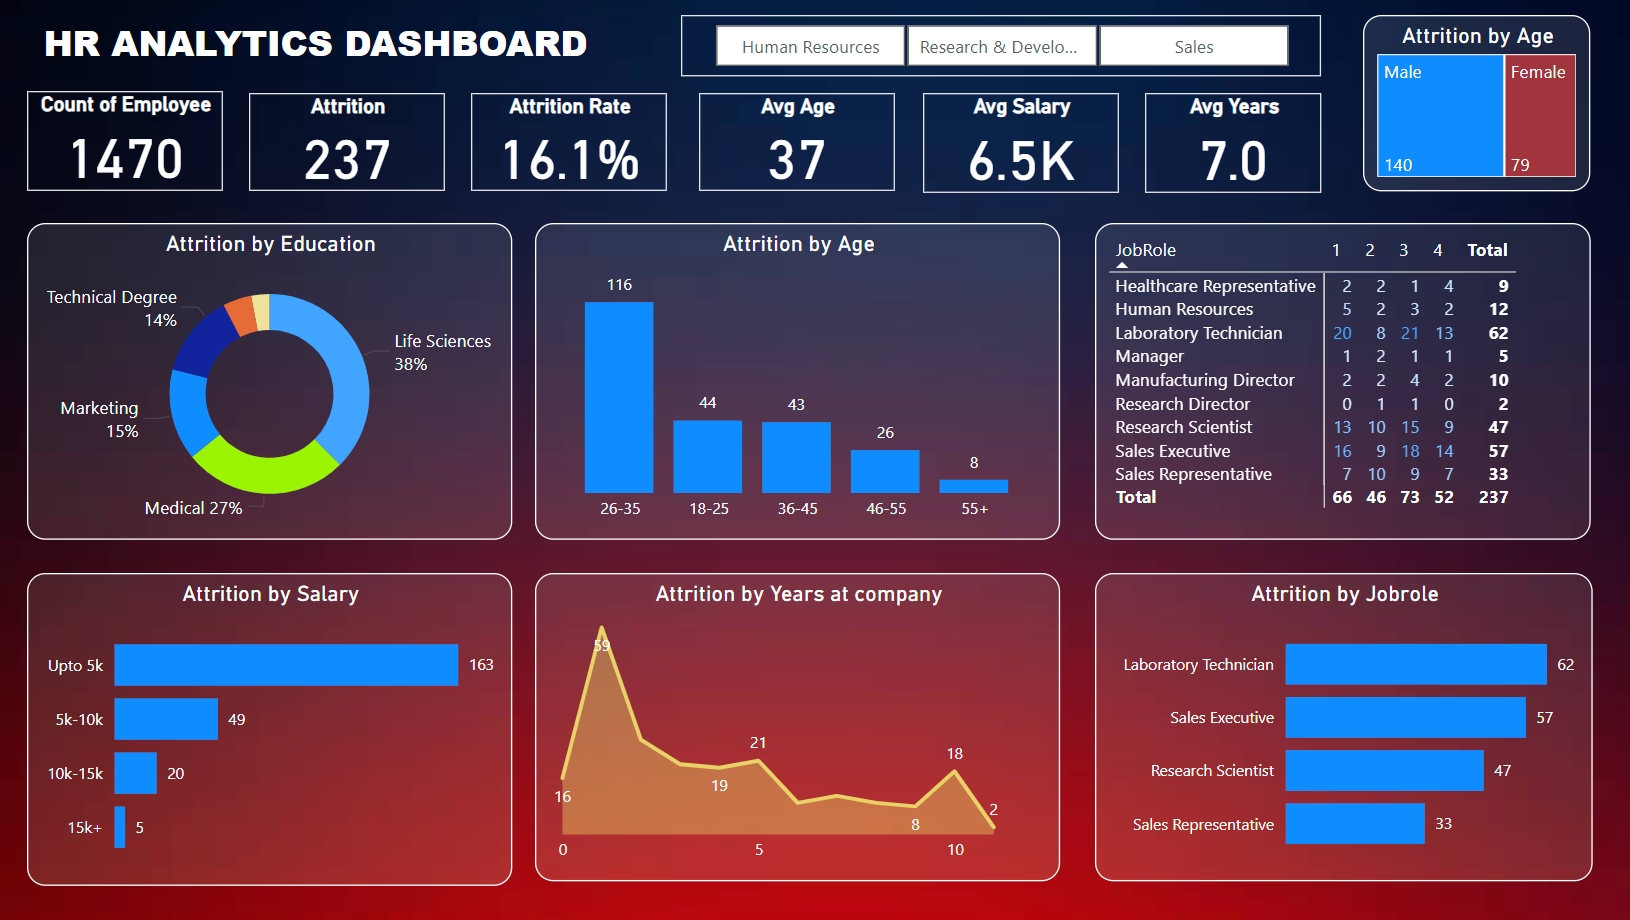

This screenshot's page, from the dashboard's own definition file:
{"tool":"powerbi","page":{"name":"Page 1","canvas":[1280,720],"ordinal":0},"visuals":[{"type":"card","title":"Count of Employee","fields":{"Values":["CountNonNull(HR_Analytics.EmpID)"]},"box":[22.8,71.7,149.8,76.5],"z":0},{"type":"card","title":"Attrition","fields":{"Values":["Sum(HR_Analytics.AttritionCount)"]},"box":[192.2,73.3,149.8,74.9],"z":1000},{"type":"card","title":"Attrition Rate","fields":{"Values":["HR_Analytics.AttritionRate"]},"box":[363.2,73.3,149.8,74.9],"z":2000},{"type":"card","title":"Avg Age","fields":{"Values":["Avg(HR_Analytics.Age)"]},"box":[537.4,73.3,149.8,74.9],"z":3000},{"type":"card","title":"Avg Salary","fields":{"Values":["Avg(HR_Analytics.MonthlyIncome)"]},"box":[708.4,73.3,149.8,76.5],"z":4000},{"type":"card","title":"Avg Years","fields":{"Values":["Avg(HR_Analytics.YearsAtCompany)"]},"box":[879.4,73.3,135.2,76.5],"z":5000},{"type":"donutChart","title":"Attrition by Education","fields":{"Category":["HR_Analytics.EducationField","HR_Analytics.Education"],"Y":["Sum(HR_Analytics.AttritionCount)"]},"box":[22.8,172.6,371.3,242.6],"z":6000},{"type":"columnChart","title":"Attrition by Age","fields":{"Category":["HR_Analytics.AgeGroup"],"Y":["Sum(HR_Analytics.AttritionCount)"]},"box":[412,172.6,402.2,242.6],"z":7000},{"type":"pivotTable","fields":{"Rows":["HR_Analytics.JobRole"],"Columns":["HR_Analytics.JobSatisfaction"],"Values":["Sum(HR_Analytics.AttritionCount)"]},"box":[840.3,172.6,379.4,242.6],"z":8000},{"type":"barChart","title":"Attrition by Salary","fields":{"Category":["HR_Analytics.SalarySlab"],"Y":["Sum(HR_Analytics.AttritionCount)"]},"box":[22.8,441.3,371.3,239.4],"z":9000},{"type":"barChart","title":"Attrition by Jobrole","fields":{"Category":["HR_Analytics.JobRole"],"Y":["Sum(HR_Analytics.AttritionCount)"]},"box":[840.3,441.3,381.1,236.1],"z":10000},{"type":"areaChart","title":"Attrition by Years at company","fields":{"Category":["HR_Analytics.YearsAtCompany"],"Y":["Sum(HR_Analytics.AttritionCount)"]},"box":[412,441.3,402.2,236.1],"z":11000},{"type":"treemap","title":"Attrition by Age","fields":{"Group":["HR_Analytics.Gender"],"Values":["Sum(HR_Analytics.AttritionCount)"]},"box":[1045.5,13,174.2,135.2],"z":12000},{"type":"slicer","fields":{"Values":["HR_Analytics.Department"]},"box":[524.4,13,490.2,47.2],"z":13000},{"type":"textbox","box":[30.9,11.4,457.6,61.9],"z":14000}]}

Visuals, with their boxes in screenshot pixels (x1, y1, x2, y2), scaled from the page's 1280x720 canvas onto the 1630x920 screenshot:
"Count of Employee" card: [29, 92, 220, 189]
"Attrition" card: [245, 94, 436, 189]
"Attrition Rate" card: [463, 94, 653, 189]
"Avg Age" card: [684, 94, 875, 189]
"Avg Salary" card: [902, 94, 1093, 191]
"Avg Years" card: [1120, 94, 1292, 191]
"Attrition by Education" donutChart: [29, 221, 502, 531]
"Attrition by Age" columnChart: [525, 221, 1037, 531]
pivotTable - HR_Analytics.JobRole x HR_Analytics.JobSatisfaction: [1070, 221, 1553, 531]
"Attrition by Salary" barChart: [29, 564, 502, 870]
"Attrition by Jobrole" barChart: [1070, 564, 1555, 866]
"Attrition by Years at company" areaChart: [525, 564, 1037, 866]
"Attrition by Age" treemap: [1331, 17, 1553, 189]
slicer - HR_Analytics.Department: [668, 17, 1292, 77]
textbox: [39, 15, 622, 94]
